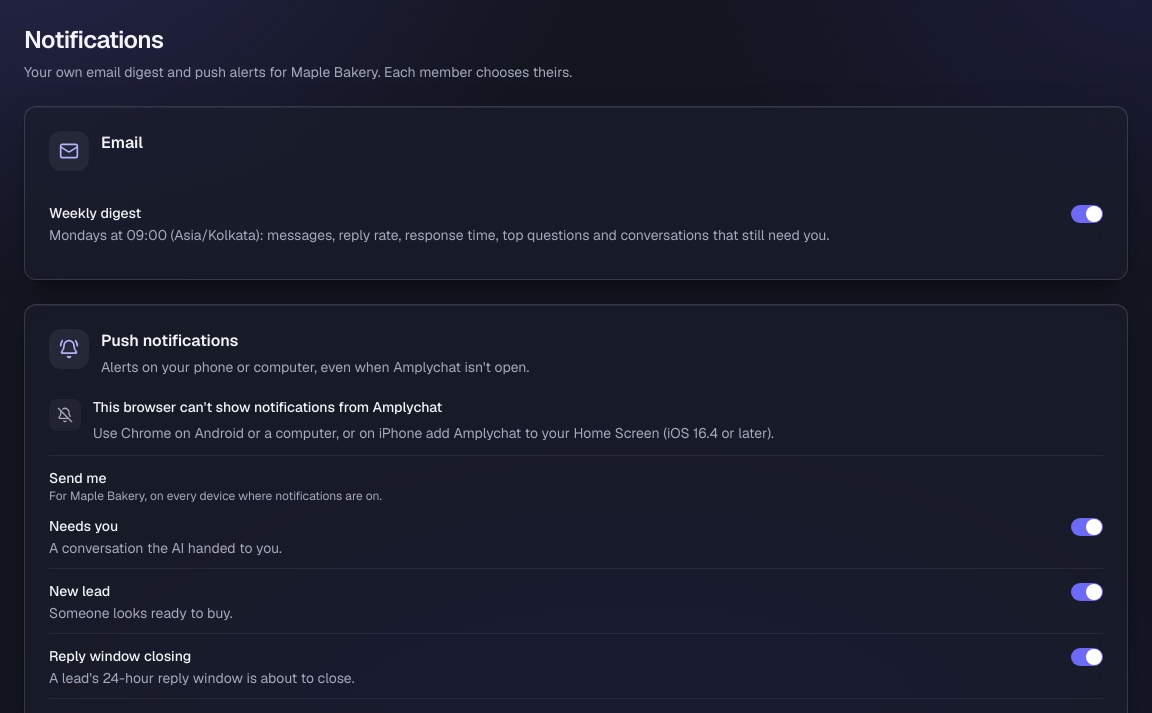
Test case: Settings → Notifications (UX-SCR-07, FR-NOT-03, FR-NOT-04) › a switch that fails to save moves back and says why
Click the switch named "New lead" in the row of "New lead".
click(1087, 592)  # box [1071, 583, 1103, 601]
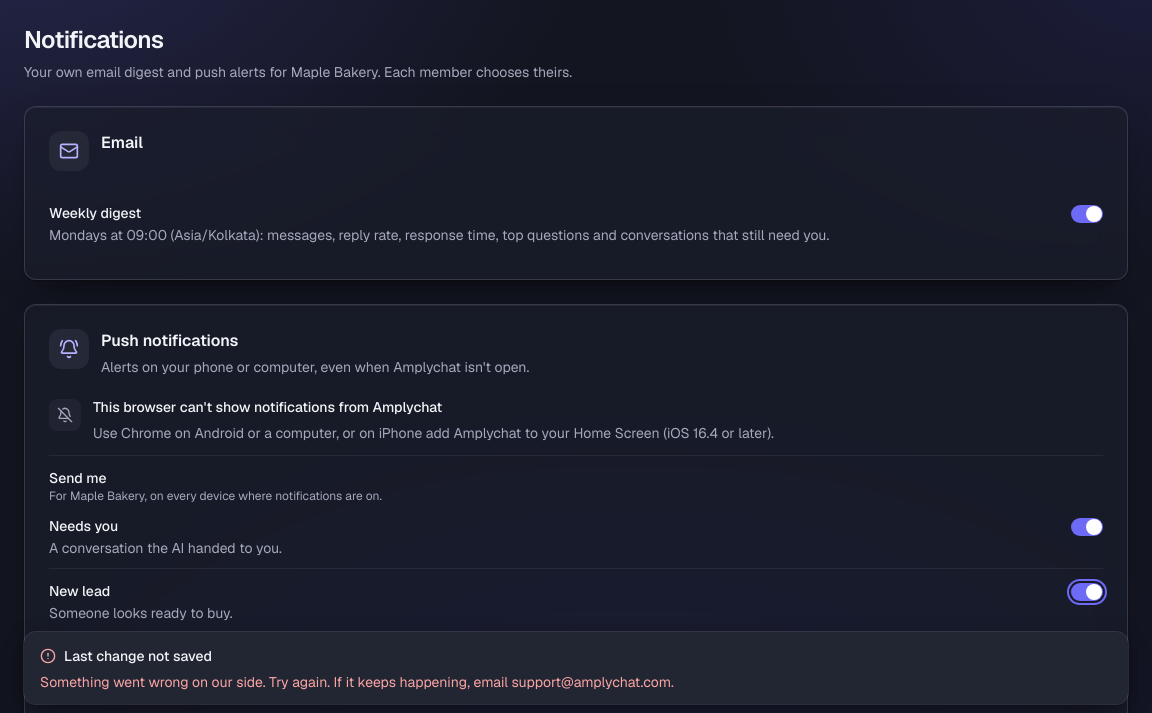
Expected: the 2nd message shows ".", [40, 672, 674, 692]
